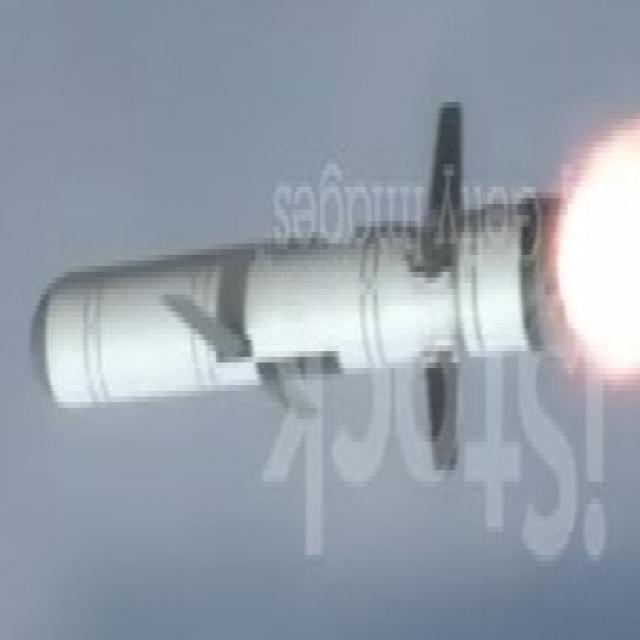Missile: (25, 160, 599, 420)
